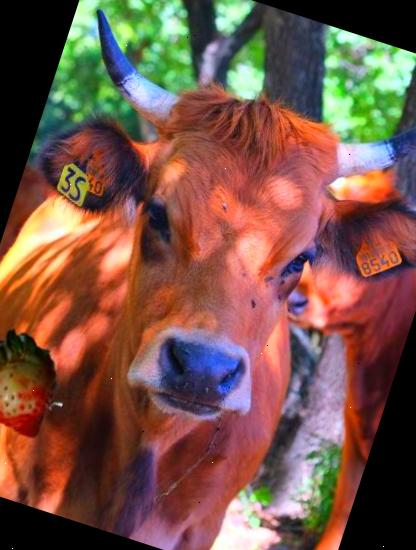Strawberry: (0, 312, 81, 446)
